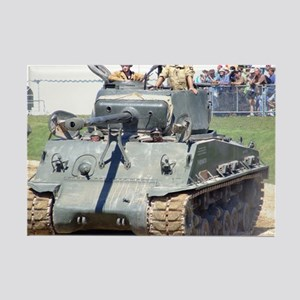Battle Tank: (28, 90, 269, 234)
